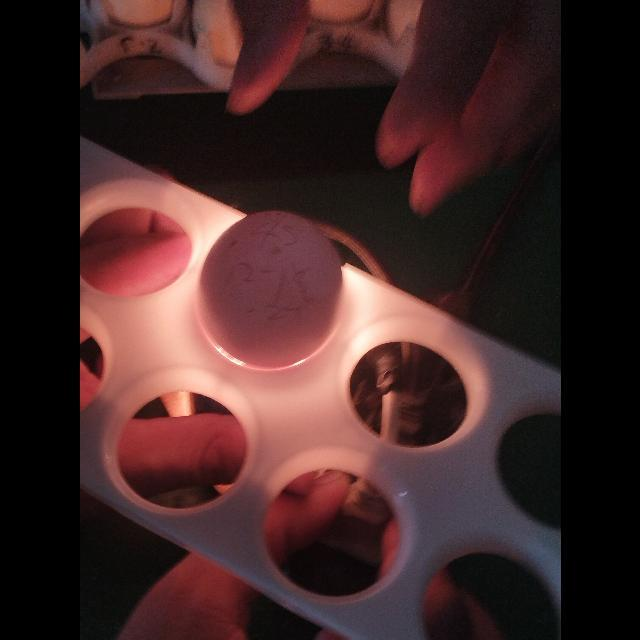Fertile: (198, 206, 348, 366)
